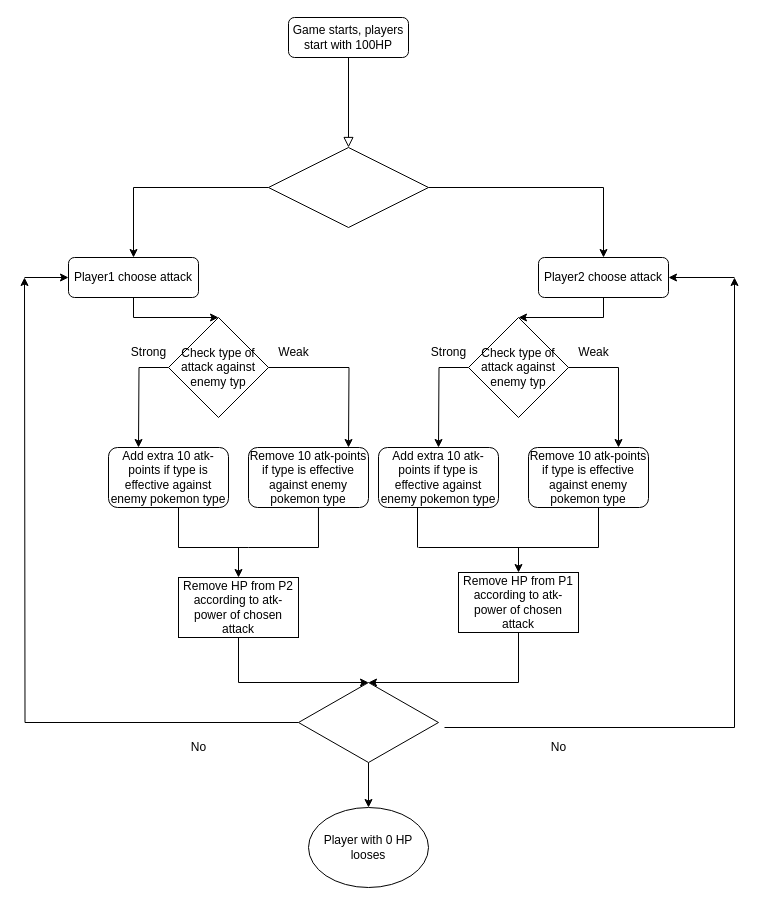
The diagram is 760 pixels wide and 905 high, and some of its shapes have lost their labels. Each missing label, with the centre of its shape:
"2 players choose a pokemon" belongs at point 348,187.
"Check if P1 or P2 reached 0HP" belongs at point 368,722.
